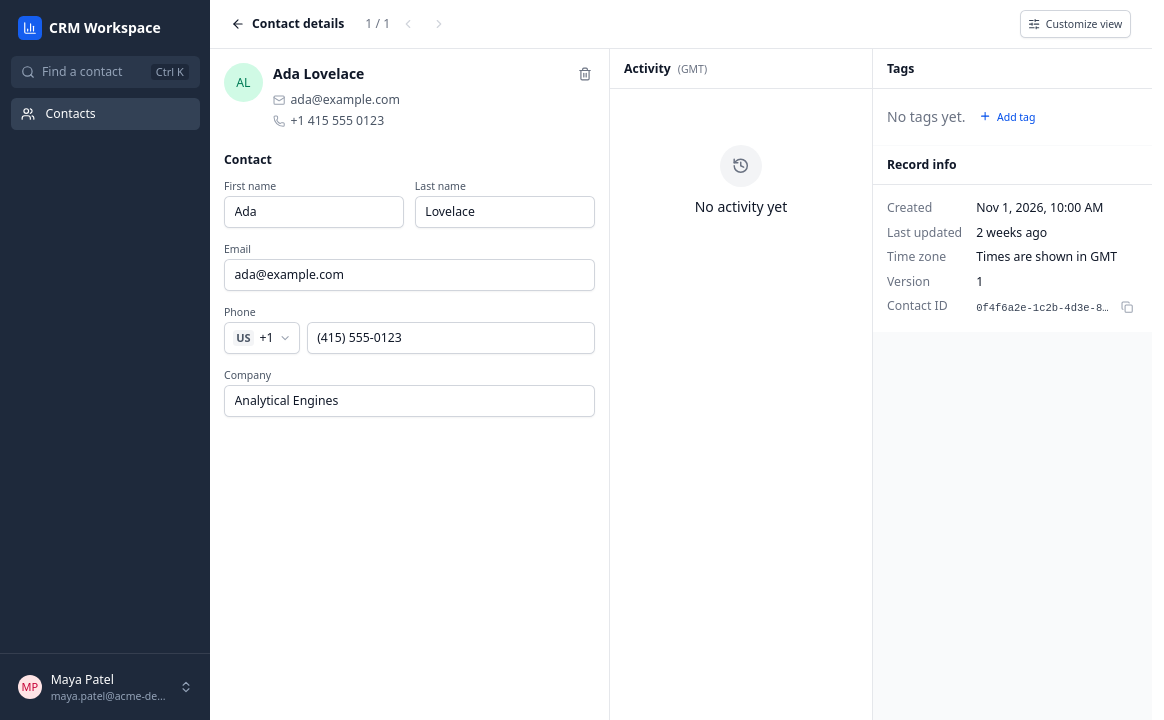
Test case: ContactDetailPage › shows a duplicate email next to the email field
Replace the text in the field labelled "Email" with "taken@example.com". click: [410, 275]
box: [224, 259, 595, 290]
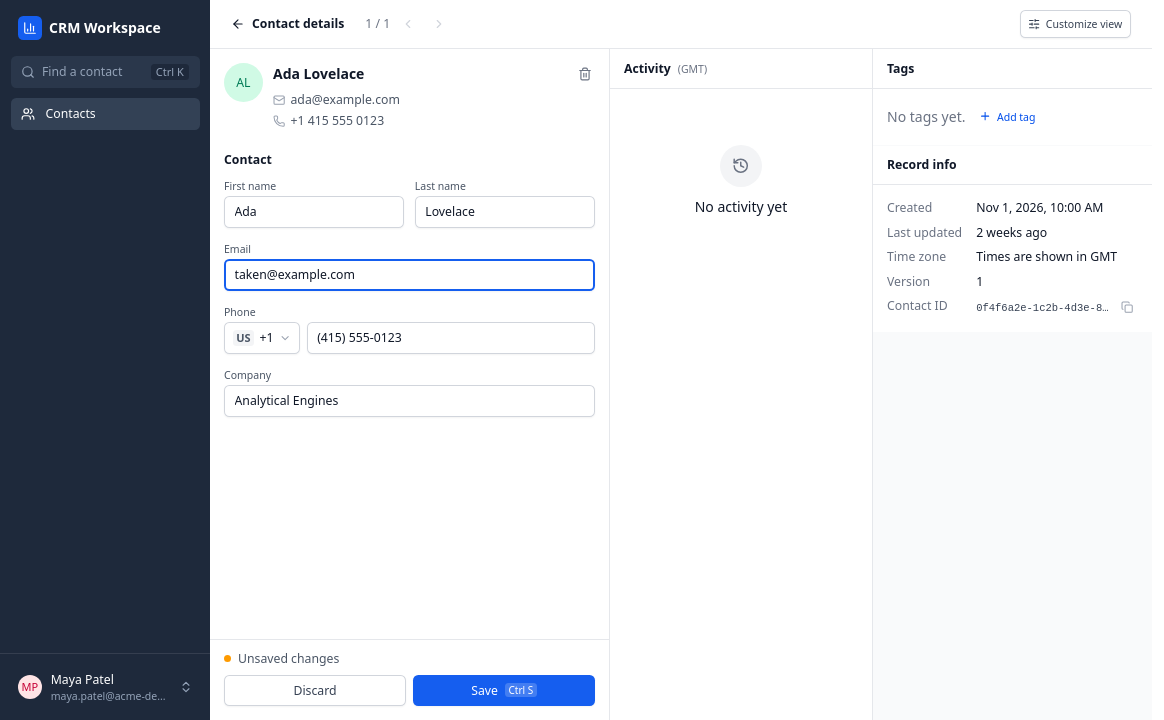
Click the button "Save Ctrl S". click: [504, 690]
box: [413, 674, 595, 706]
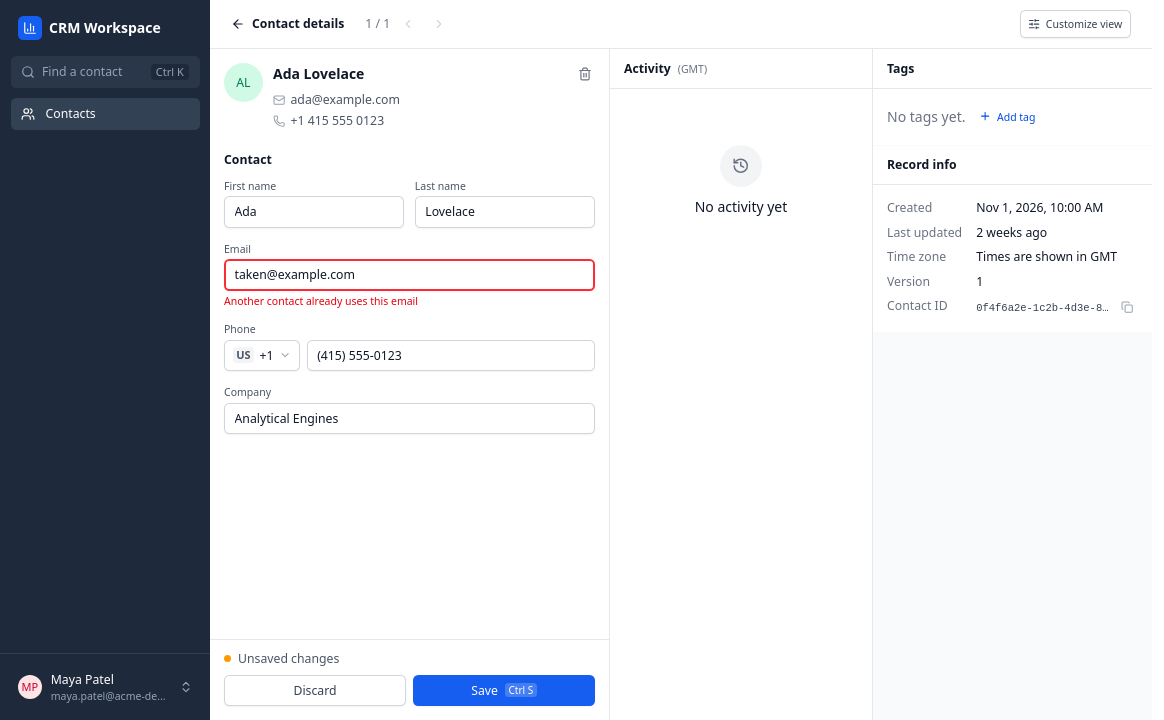
expect the text "Another contact already uses this email" is shown: met, box [224, 294, 418, 308]
